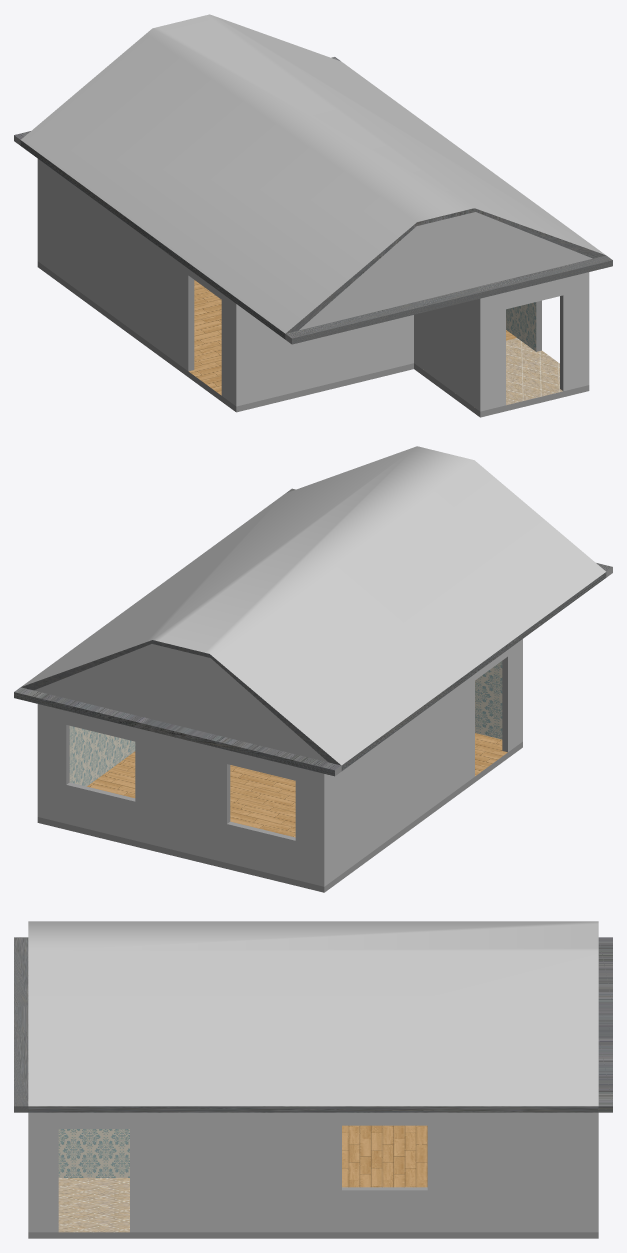
The model's file is HOuse model Final 1.fbx.
The picture shows the model from 3 angles, top to bottom: view 1: azimuth 30°, elevation 25°; view 2: azimuth 150°, elevation 25°; view 3: azimuth 270°, elevation 25°; orthographic projection. The views are drawn at different scales.
Parts seen in each view (by area): view 1: pasted__Roof, pCube21, pCube5, pCube1, pCube6, pCube20, pCube19; view 2: pasted__Roof, pCube13, pCube21, pCube1, pCube19, pCube5; view 3: pasted__Roof, pCube19, pCube1, pCube6.
Part boxes in pixels (left/top/right/bottom): pasted__Roof: left=14, top=14, right=612, bottom=344; pCube21: left=37, top=159, right=241, bottom=406; pCube5: left=242, top=308, right=413, bottom=404; pCube1: left=37, top=261, right=589, bottom=417; pCube6: left=414, top=297, right=485, bottom=411; pCube20: left=486, top=273, right=583, bottom=409; pCube19: left=506, top=272, right=589, bottom=386; pasted__Roof: left=14, top=446, right=612, bottom=776; pCube13: left=43, top=705, right=318, bottom=885; pCube21: left=318, top=639, right=522, bottom=886; pCube1: left=37, top=733, right=522, bottom=892; pCube19: left=37, top=704, right=135, bottom=818; pCube5: left=475, top=661, right=502, bottom=739; pasted__Roof: left=14, top=921, right=612, bottom=1112; pCube19: left=28, top=1112, right=598, bottom=1232; pCube1: left=28, top=1125, right=598, bottom=1238; pCube6: left=58, top=1129, right=129, bottom=1177.
Bounding box in the file's own units: 28 × 17.57 × 42.
